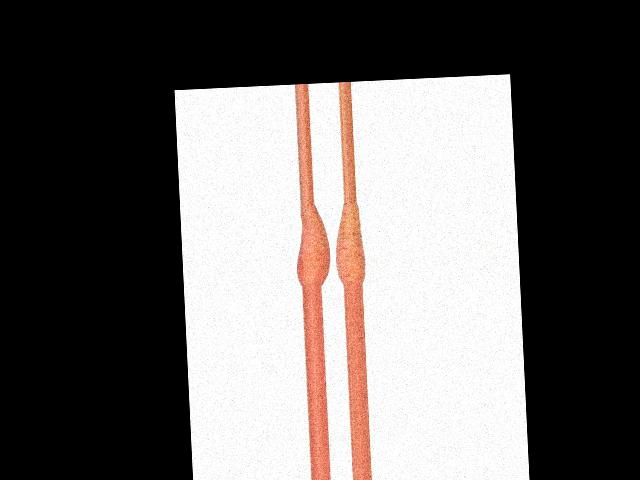sweet_potato: (333, 203, 365, 285)
